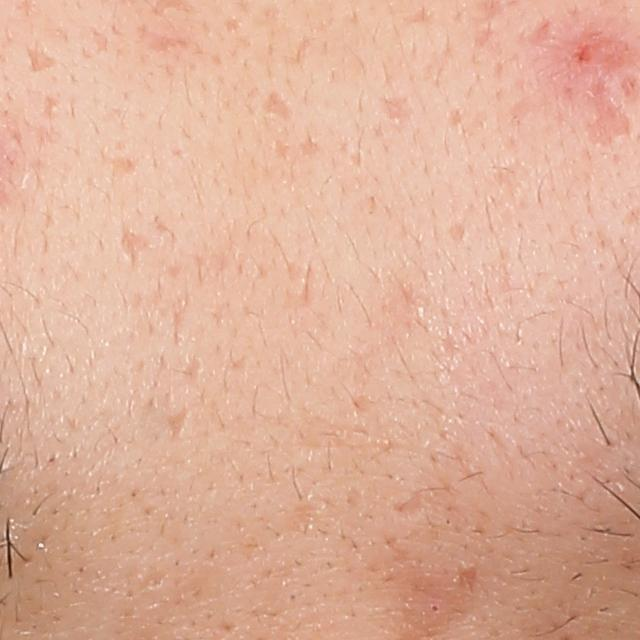atrophic_scar: (577, 93, 634, 149), (387, 479, 430, 524), (136, 22, 191, 54), (121, 232, 160, 270), (260, 90, 297, 128), (454, 557, 484, 597), (521, 15, 553, 52), (165, 404, 192, 443), (383, 98, 419, 124), (294, 32, 317, 68), (101, 154, 136, 177), (27, 45, 53, 70), (444, 219, 468, 243), (43, 91, 61, 119), (91, 31, 111, 54), (445, 109, 465, 130), (273, 142, 291, 162)
